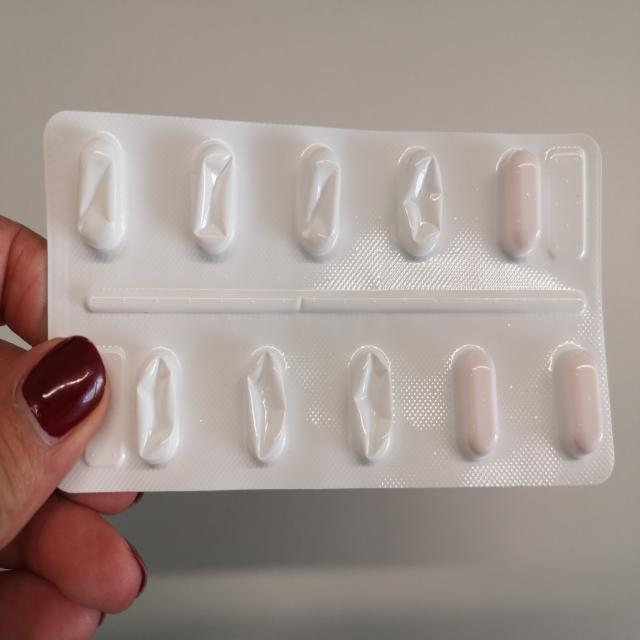Empty: (73, 127, 133, 264), (183, 132, 244, 265), (338, 336, 396, 470), (238, 337, 295, 468), (128, 341, 184, 474), (390, 142, 450, 263), (291, 140, 348, 263)
Pill: (442, 336, 504, 464), (548, 338, 604, 461), (497, 140, 543, 266)
